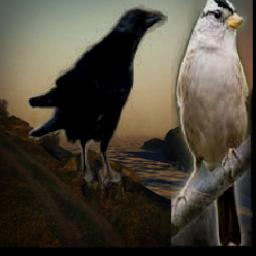Crow: (28, 5, 167, 190)
Sparrow: (170, 0, 250, 247)
